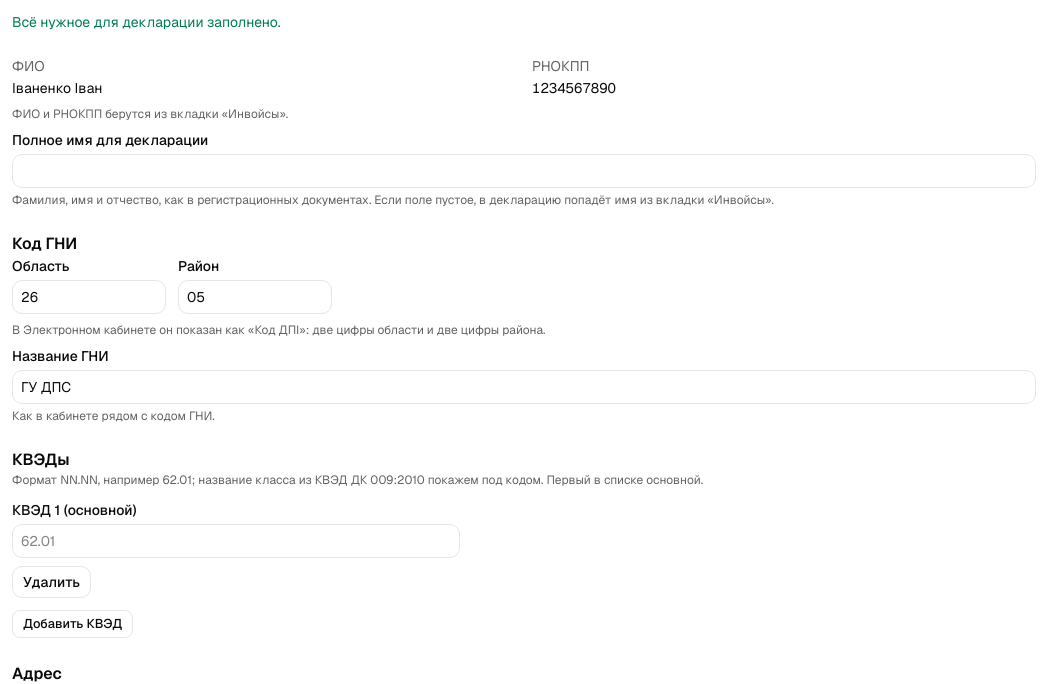
Test: DeclarationDetailsForm KVED names in ru › words a code of the right shape that is not a class as the owner types it
Step 1. Type "12.34" into the field labelled "КВЭД 1 (основной)" → x=236, y=541, box x1=12 y1=524 x2=460 y2=558
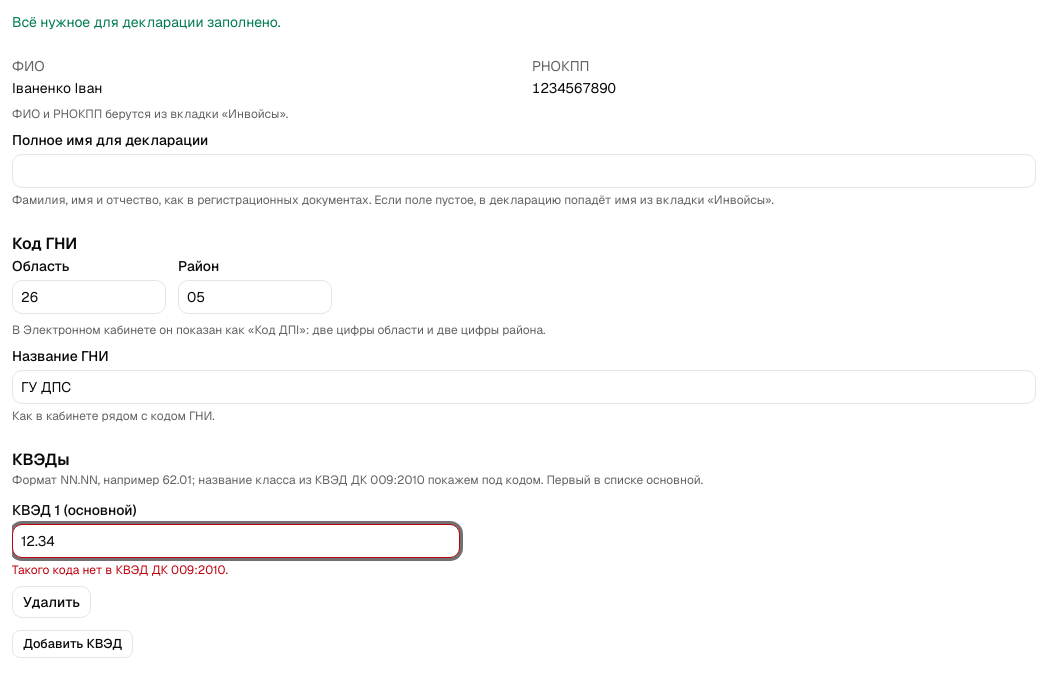
Check: the text "Такого кода нет в КВЭД ДК 009:2010." is shown, box x1=12 y1=562 x2=228 y2=578
